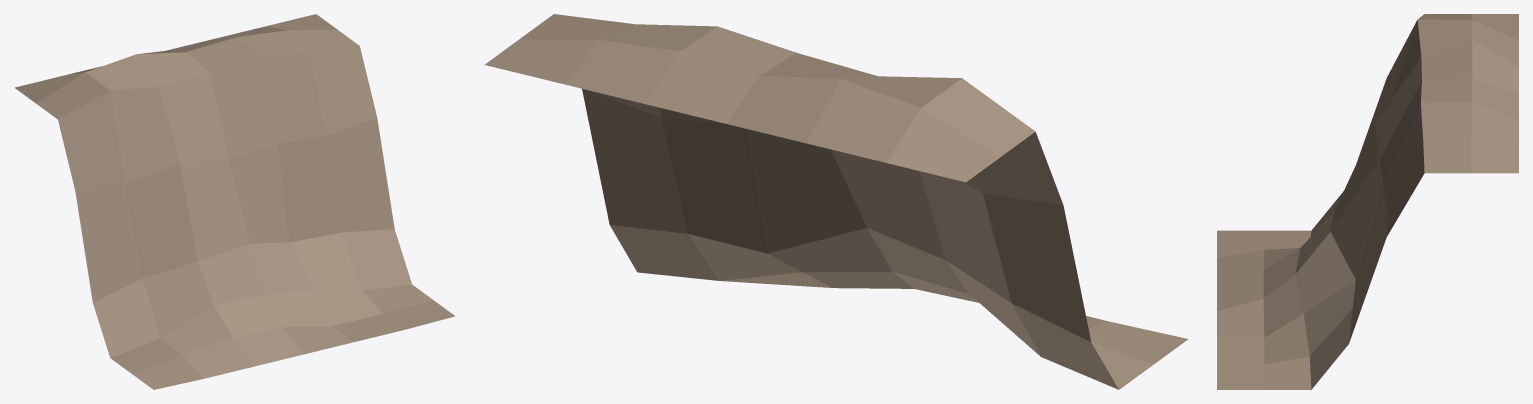
File: Groborchik_RiverBank_4m_1.fbx
3 views of the same model, side by side, from view 1: azimuth 30°, elevation 25°; view 2: azimuth 150°, elevation 25°; view 3: azimuth 270°, elevation 25° (orthographic). The views are drawn at different scales.
Visible parts, largest first — view 1: 4m_1; view 2: 4m_1; view 3: 4m_1.
Boxes of the visible parts, x1,y1,x2,y2 form: 4m_1: (15, 14, 454, 389); 4m_1: (484, 14, 1188, 389); 4m_1: (1217, 14, 1518, 389).
Size of the model in its own units: 1000 by 715 by 800.
